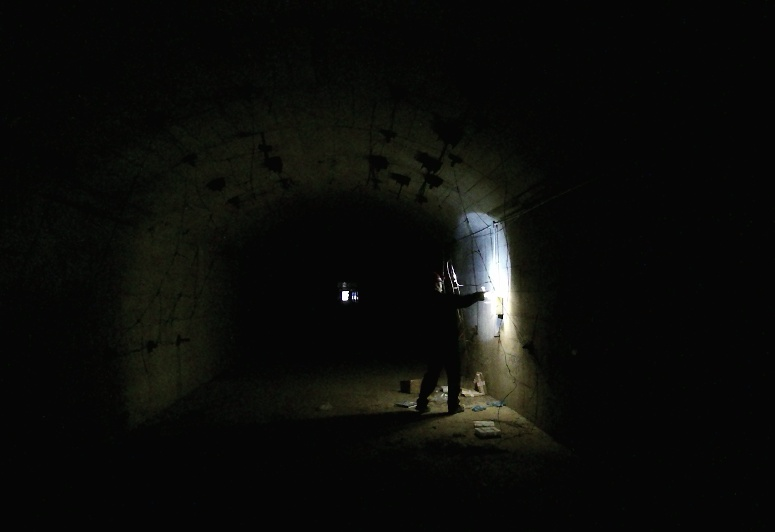person: (407, 273, 488, 418)
